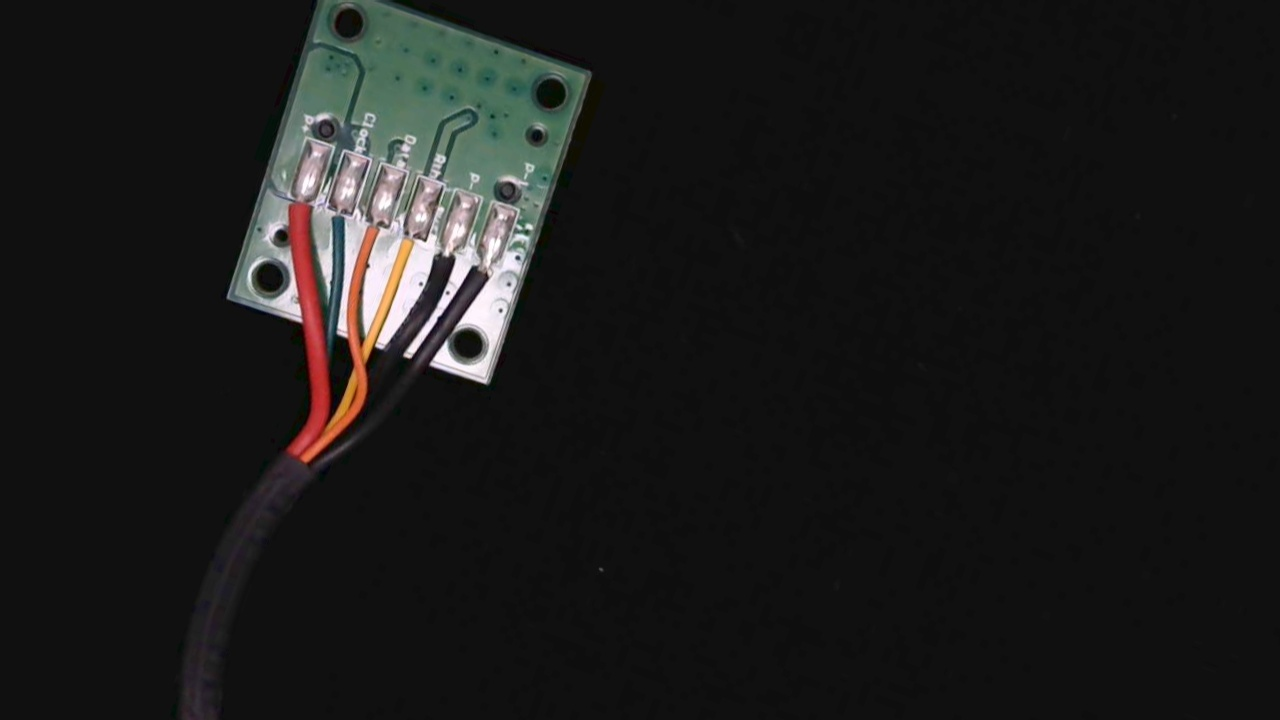Black: (416, 227, 469, 301)
Black1: (453, 239, 507, 313)
Green: (308, 189, 361, 258)
Orange: (344, 198, 398, 276)
Red: (266, 175, 322, 253)
Yellow: (376, 211, 434, 292)
